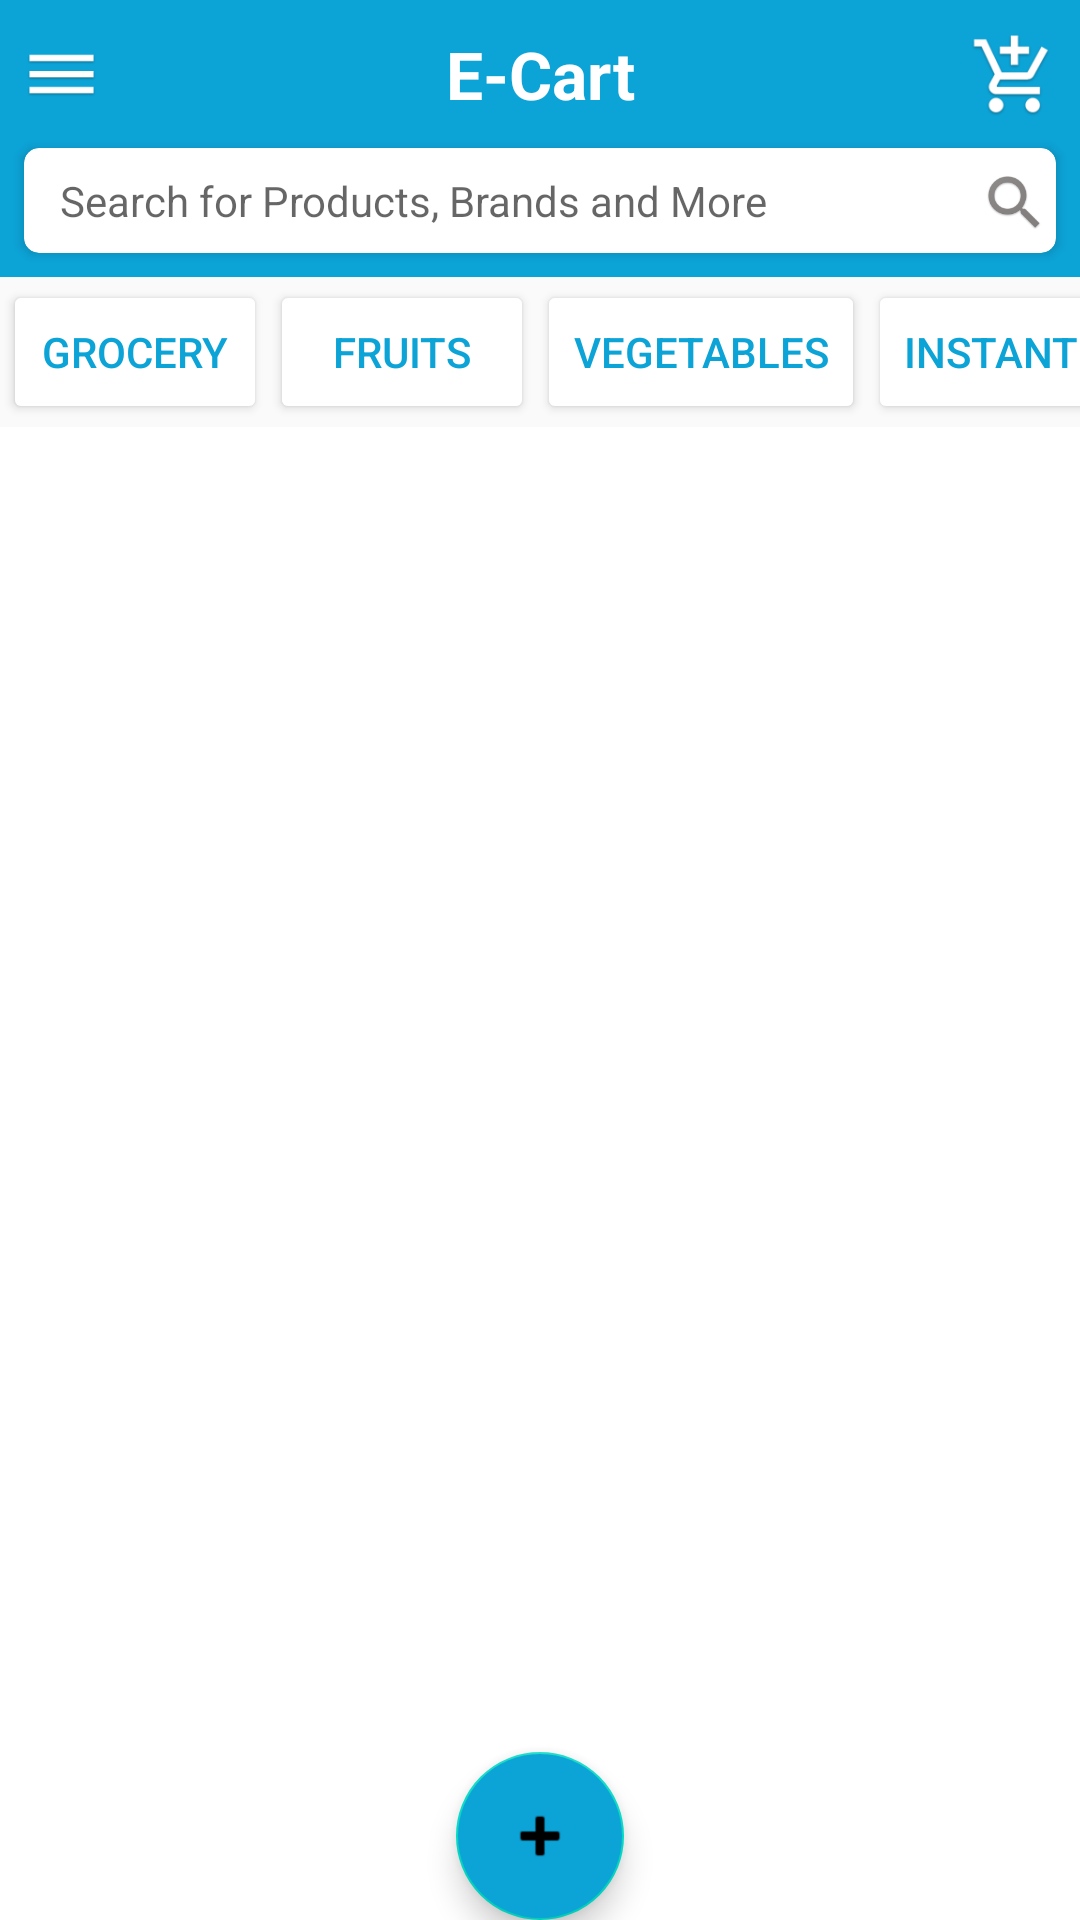

Screen size 1080px×1920px. Icon name, then its center in pixels as (x,y):
add: (540,1836)
hamburger: (61,74)
